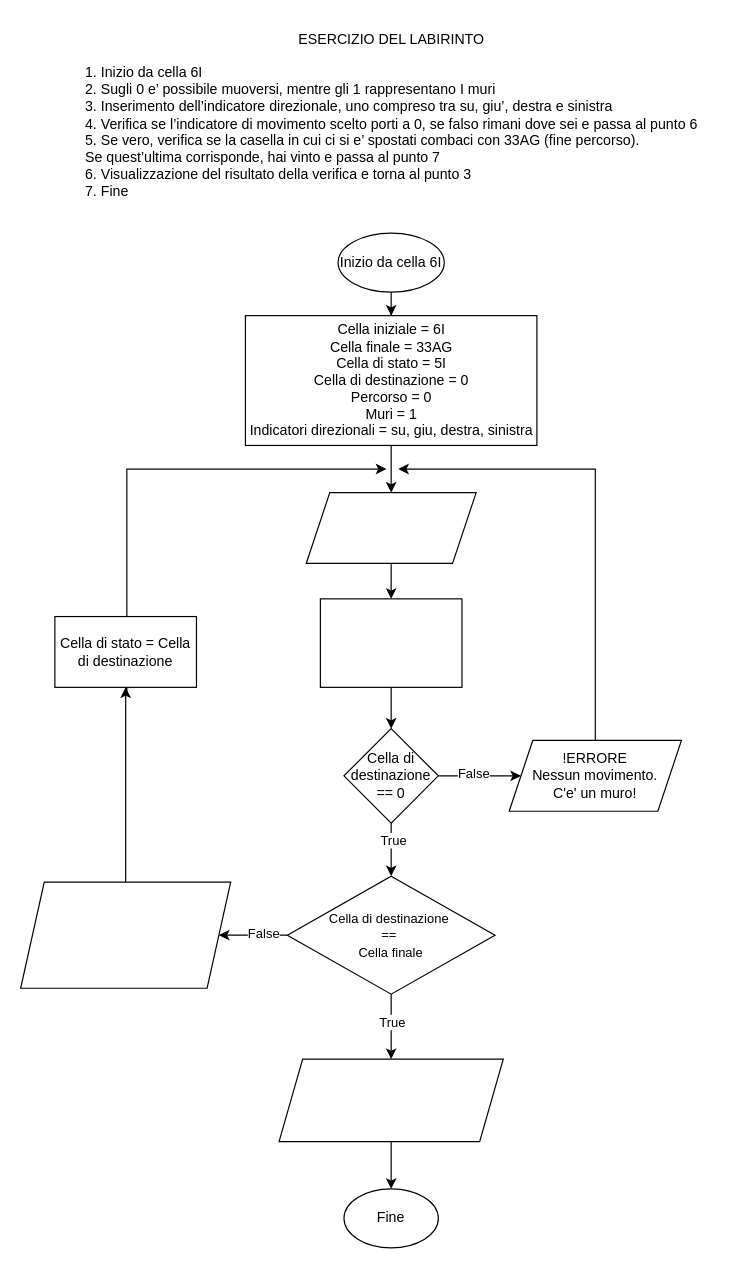
This 730x1269 diagram has some shape labels left out. Here are the shapes that lost their labels. From the top down, the centre of each, then its label:
the point at 390,527: Inserimento Indicatori direzionali (singolo input)
the point at 390,642: Cella di destinazione = Cella indicata dall'indicatore direzionale
the point at 125,934: "Ti sei spostato in " +Cella di destinazione+"!"
the point at 390,1100: Sei arrivato all'uscita, hai vinto!
